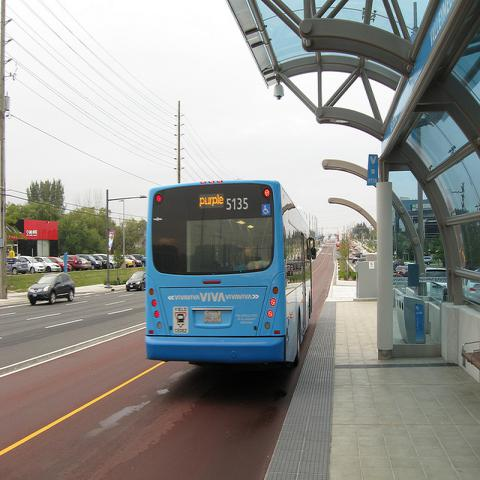bus: (147, 185, 314, 372)
car: (28, 268, 76, 306), (7, 256, 45, 275), (125, 269, 146, 292), (34, 255, 62, 272), (44, 256, 72, 272), (60, 255, 82, 271), (80, 256, 101, 271), (100, 253, 117, 269), (92, 254, 108, 268), (76, 256, 92, 270), (125, 255, 142, 266), (424, 256, 433, 266)
